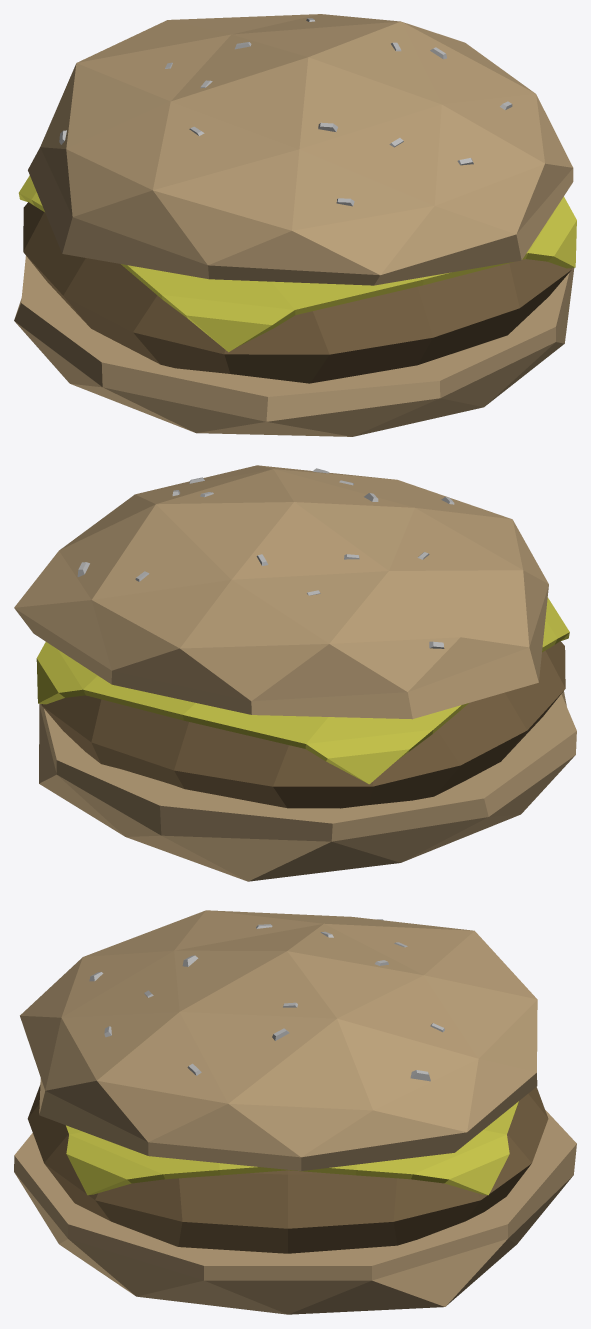
The model's file is Cheeseburger.glb.
3 renders of one model, top to bottom at view 1: azimuth 30°, elevation 25°; view 2: azimuth 150°, elevation 25°; view 3: azimuth 270°, elevation 25°, orthographic. The views are drawn at different scales.
Parts seen in each view (by area): view 1: Cheeseburger; view 2: Cheeseburger; view 3: Cheeseburger.
Boxes of the visible parts, x1,y1,x2,y2 form: Cheeseburger: [14, 14, 576, 436]; Cheeseburger: [14, 465, 576, 881]; Cheeseburger: [14, 910, 576, 1314].
Size of the model in its own units: 1.46 by 0.9382 by 1.54.
